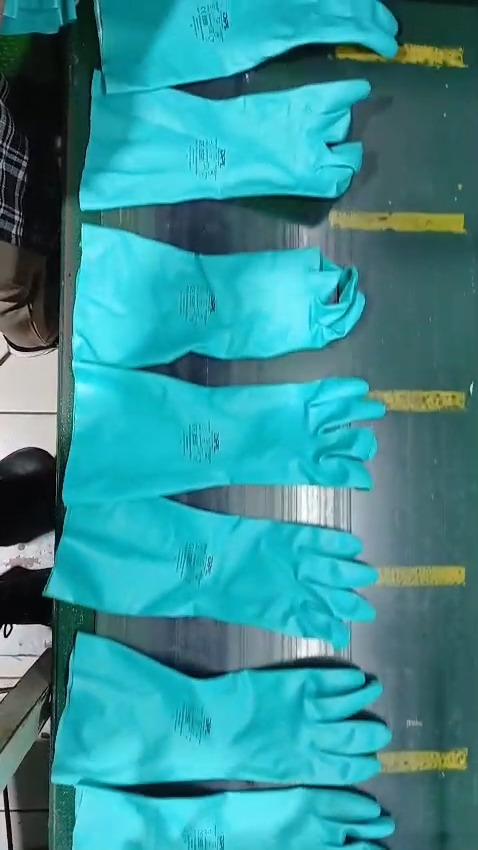glove: (55, 634, 387, 790), (51, 498, 376, 642), (62, 364, 383, 504), (72, 229, 374, 370), (84, 77, 375, 213), (87, 0, 399, 93), (70, 781, 399, 847)
